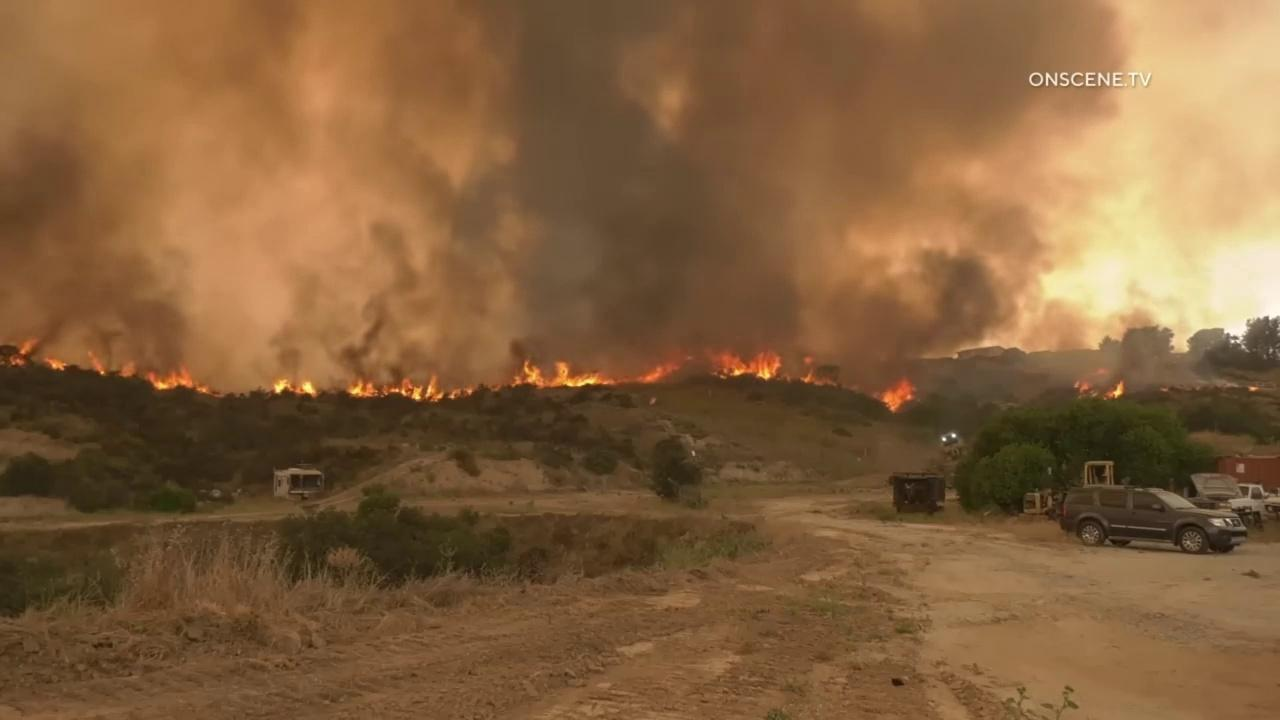fire: (511, 359, 681, 389), (345, 374, 444, 402), (712, 351, 783, 383), (148, 366, 208, 394), (879, 376, 917, 413), (273, 378, 320, 398), (9, 337, 39, 368), (800, 368, 833, 385), (1073, 380, 1096, 399), (1104, 380, 1125, 400), (42, 357, 68, 372), (89, 351, 105, 375), (119, 362, 137, 378), (448, 386, 461, 401), (803, 352, 816, 365), (463, 383, 475, 396), (1097, 368, 1106, 376), (1248, 387, 1260, 392), (1160, 387, 1168, 392)
smoke: (0, 0, 1280, 399)
